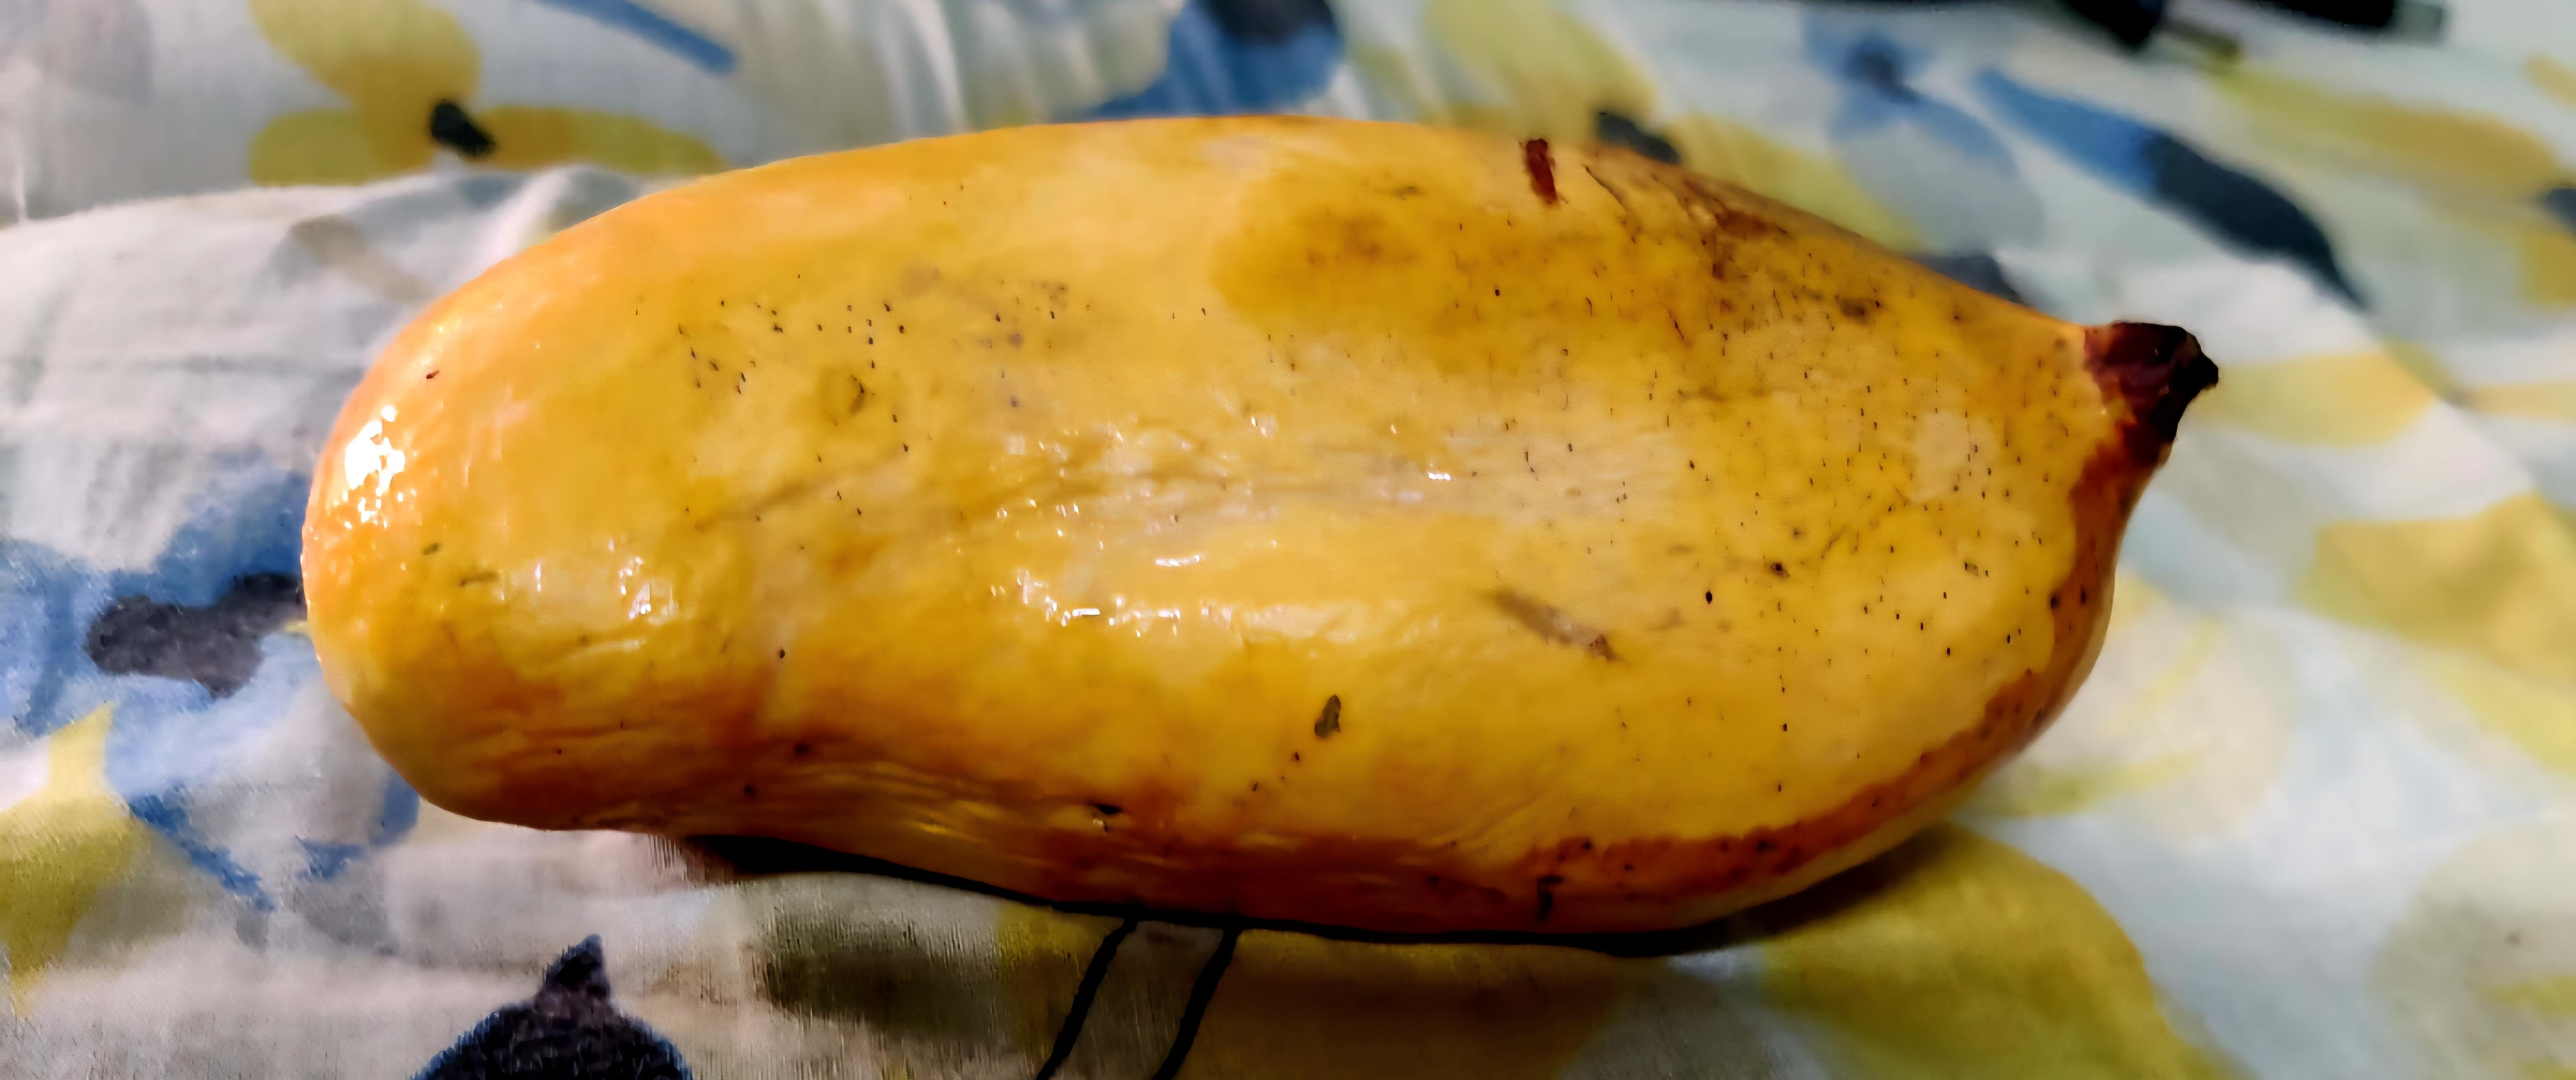mango: (299, 112, 2219, 939)
